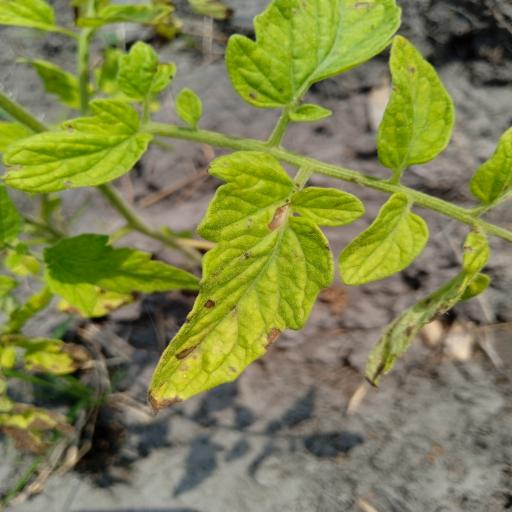Tomato_Brown_Spots: (137, 145, 368, 420), (222, 0, 407, 123), (0, 93, 162, 194), (368, 33, 458, 175), (337, 187, 435, 287)
